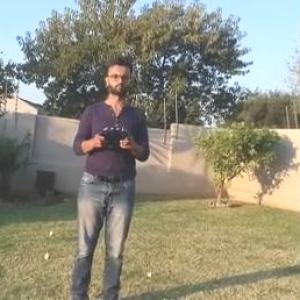follow: (64, 52, 156, 299)
